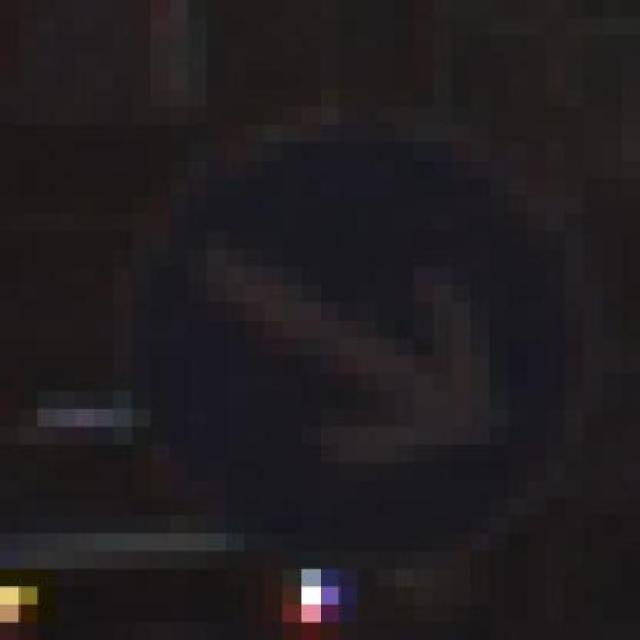Keep-Right: (75, 89, 583, 569)
